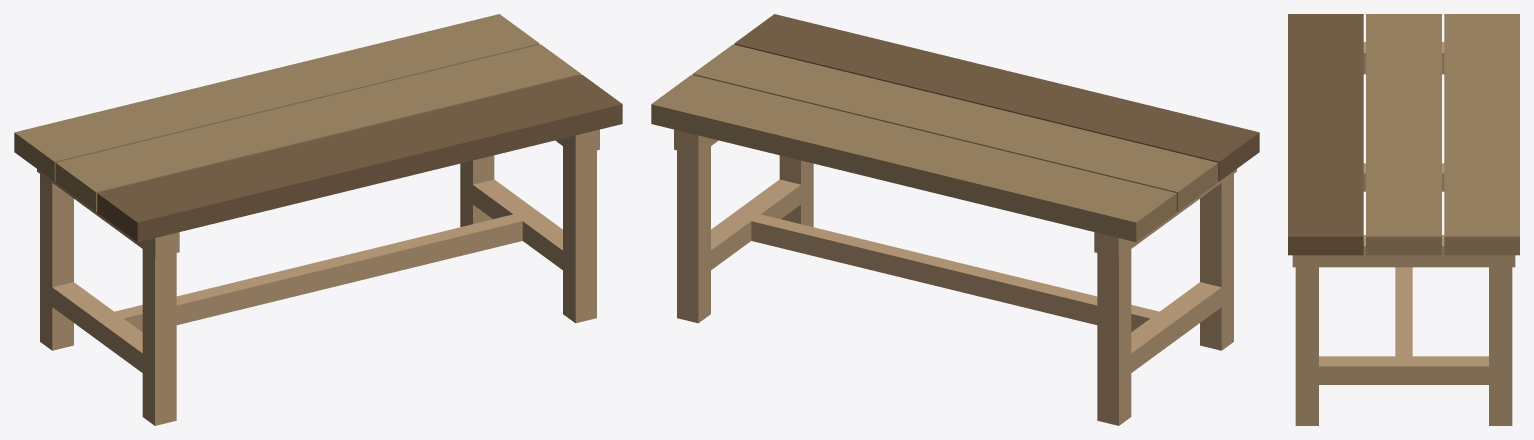
File: TW_TABLE_LONG_A_LOD0.glb
3 views of the same model, side by side, from view 1: azimuth 30°, elevation 25°; view 2: azimuth 150°, elevation 25°; view 3: azimuth 270°, elevation 25° (orthographic). The views are drawn at different scales.
Visible parts, largest first — view 1: TW_TABLE_LONG_A_LOD0; view 2: TW_TABLE_LONG_A_LOD0; view 3: TW_TABLE_LONG_A_LOD0.
Boxes of the visible parts, x1=… form: TW_TABLE_LONG_A_LOD0: x1=14, y1=14, x2=622, y2=425; TW_TABLE_LONG_A_LOD0: x1=651, y1=14, x2=1259, y2=425; TW_TABLE_LONG_A_LOD0: x1=1288, y1=14, x2=1519, y2=425.
Size of the model in its own units: 1.8 by 0.75 by 0.792.
1 material, 1 textured.
